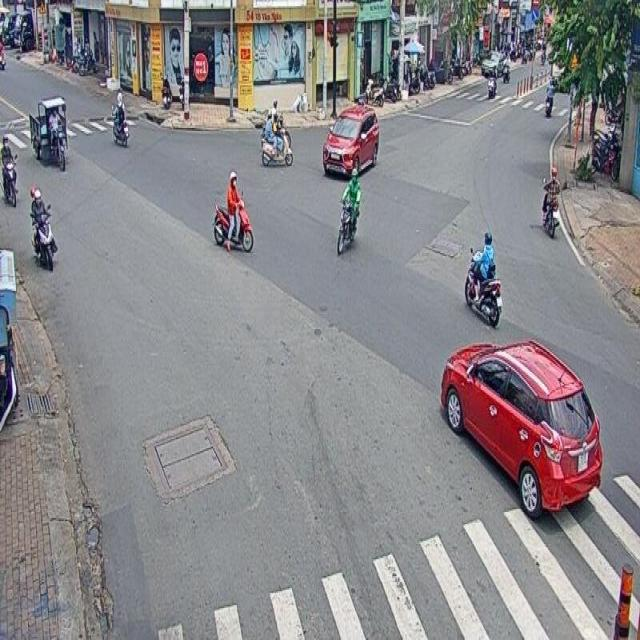car: (435, 340, 604, 518), (323, 113, 378, 180)
motorcycle: (462, 230, 500, 323), (214, 171, 252, 259), (27, 98, 70, 172), (331, 170, 365, 258), (28, 186, 58, 271), (261, 106, 293, 170), (538, 168, 561, 239), (110, 92, 128, 150)
